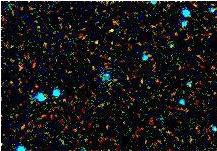star: (79, 23, 109, 53)
